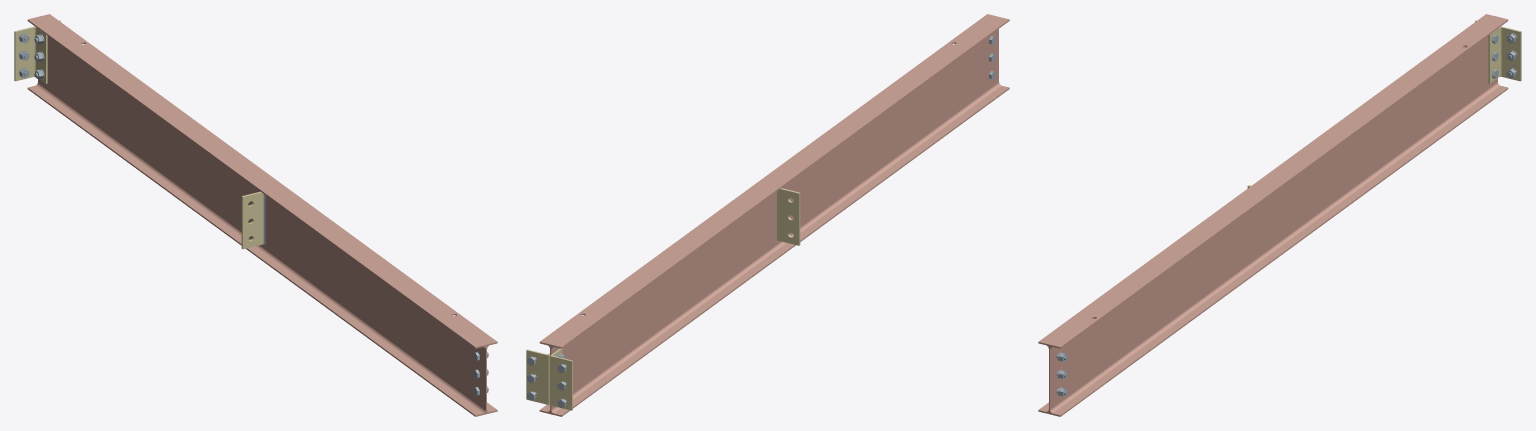
3 views of the same model, side by side, from view 1: azimuth 30°, elevation 25°; view 2: azimuth 150°, elevation 25°; view 3: azimuth 330°, elevation 25° (orthographic).
Parts seen in each view (by area): view 1: product-8c1ed584-c386-47db-98f6-cc3d5f9987ab-body, product-4eabf61d-dad8-4582-9496-32b8ebfa107c-body, product-e31506f5-314b-49a8-9803-a469eccbec54-body; view 2: product-8c1ed584-c386-47db-98f6-cc3d5f9987ab-body, product-e31506f5-314b-49a8-9803-a469eccbec54-body, product-4eabf61d-dad8-4582-9496-32b8ebfa107c-body, product-74d4d1af-0638-4174-9151-74a375d19034-body; view 3: product-8c1ed584-c386-47db-98f6-cc3d5f9987ab-body, product-74d4d1af-0638-4174-9151-74a375d19034-body.
Boxes of the visible parts, x1,y1,x2,y2 form: product-8c1ed584-c386-47db-98f6-cc3d5f9987ab-body: (27, 14, 497, 416); product-4eabf61d-dad8-4582-9496-32b8ebfa107c-body: (14, 26, 47, 83); product-e31506f5-314b-49a8-9803-a469eccbec54-body: (241, 191, 263, 249); product-8c1ed584-c386-47db-98f6-cc3d5f9987ab-body: (539, 14, 1009, 416); product-e31506f5-314b-49a8-9803-a469eccbec54-body: (777, 188, 800, 245); product-4eabf61d-dad8-4582-9496-32b8ebfa107c-body: (549, 348, 572, 410); product-74d4d1af-0638-4174-9151-74a375d19034-body: (526, 349, 549, 404); product-8c1ed584-c386-47db-98f6-cc3d5f9987ab-body: (1038, 14, 1508, 416); product-74d4d1af-0638-4174-9151-74a375d19034-body: (1488, 26, 1521, 83).
Bounding box in the file's own units: 0.2088 × 0.3048 × 3.59.
